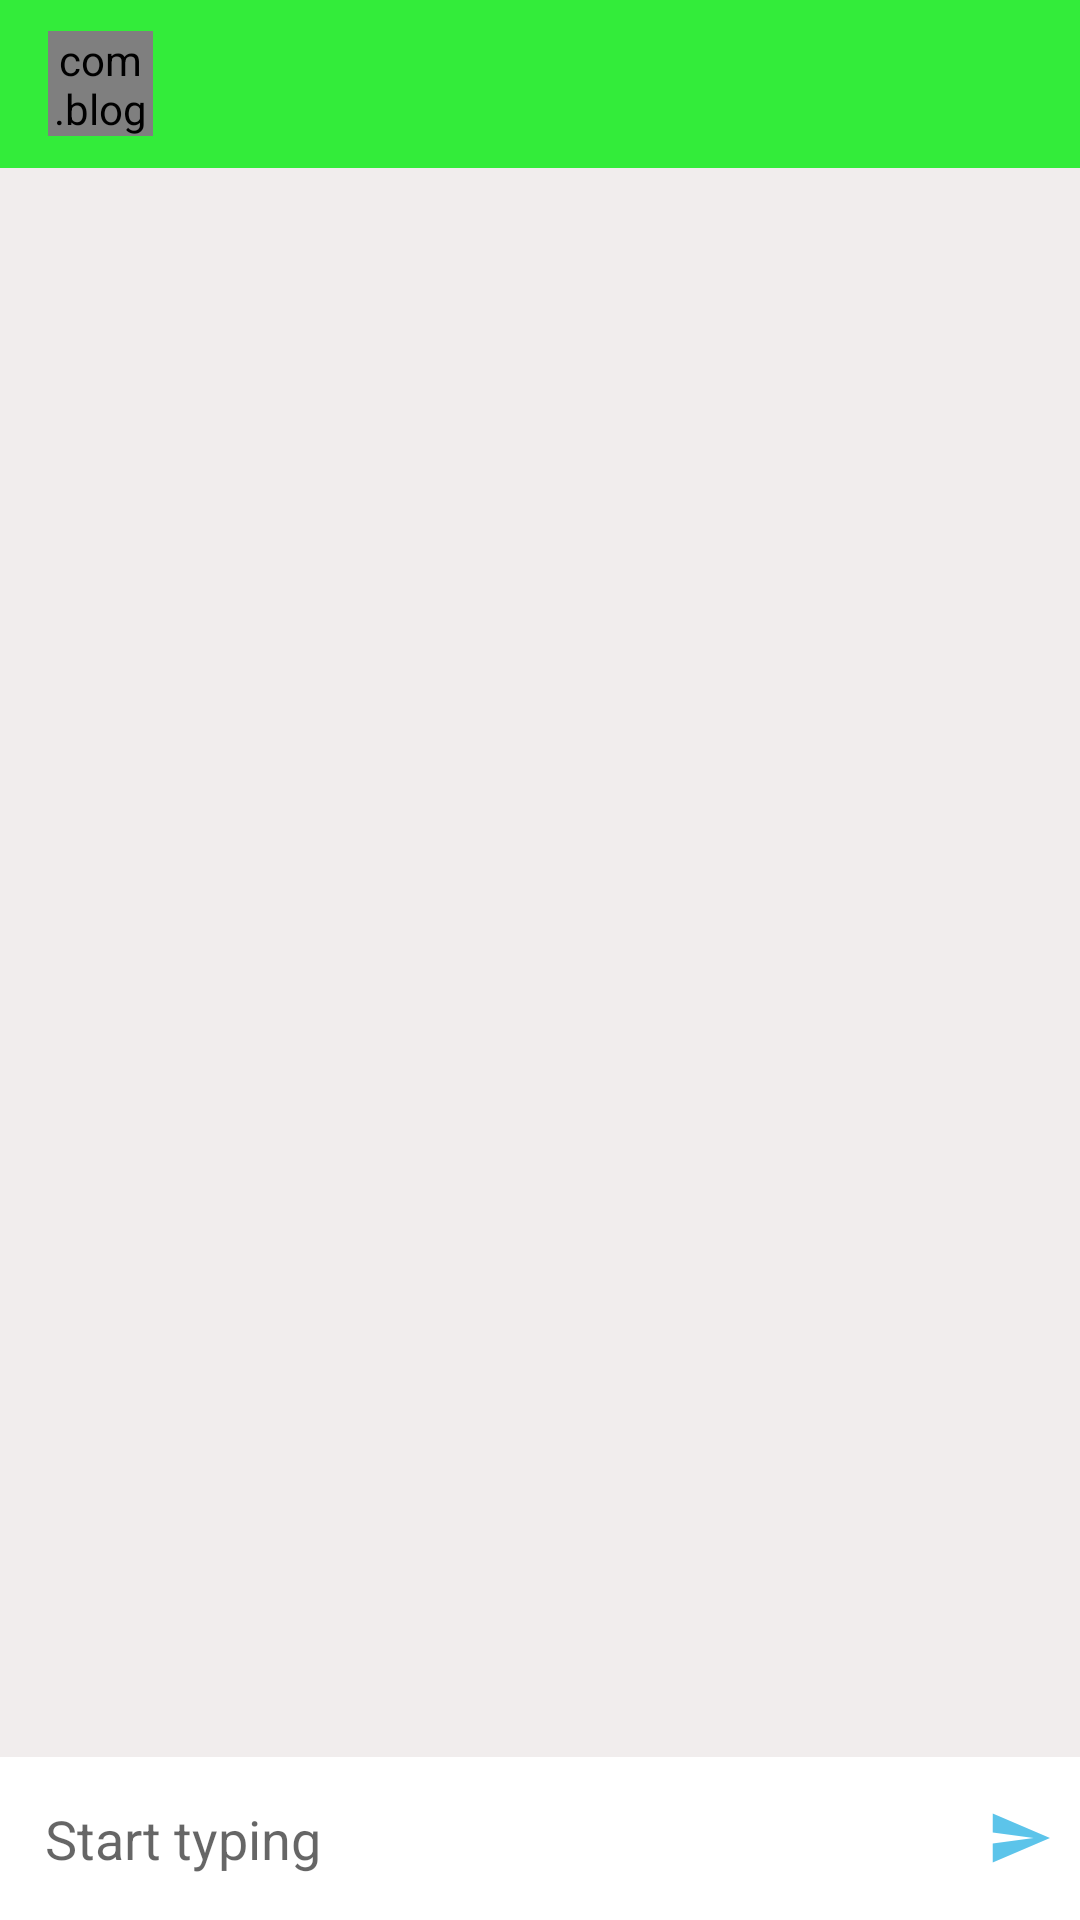

Icons on this 1080 x 1920 Android screen, each with its box as {"x1": x1, "y1": y1, "x2": x2, "y2": y2}:
send: {"x1": 992, "y1": 1813, "x2": 1050, "y2": 1863}
